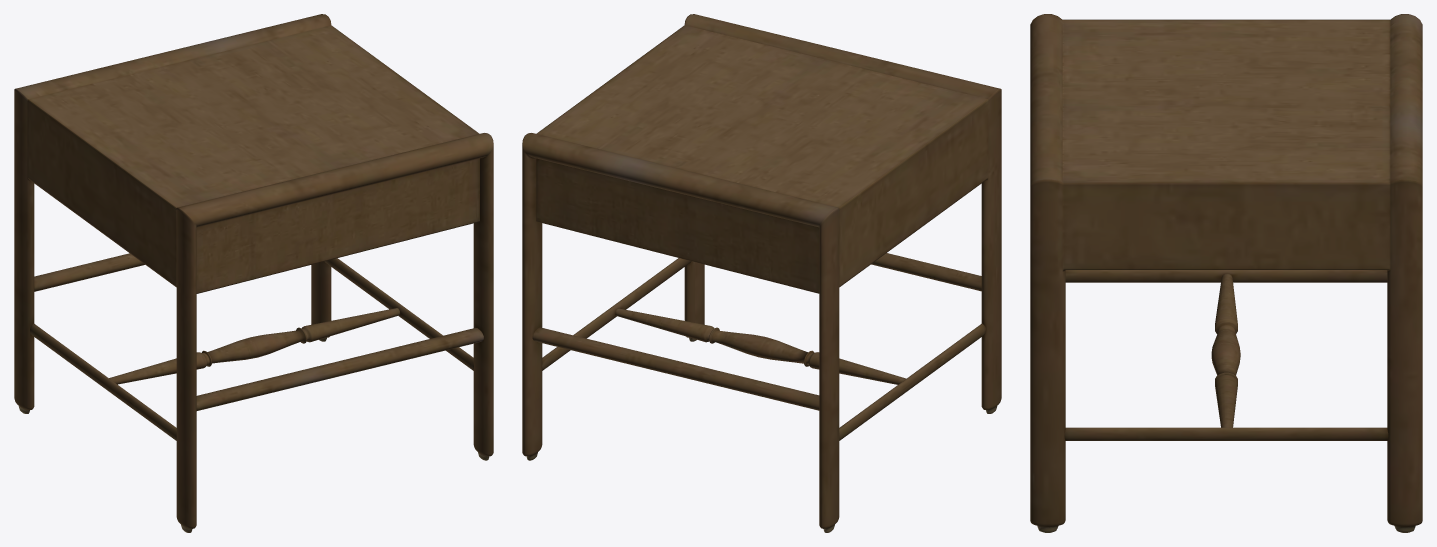
The model's file is ph-small-wooden-table-01.glb.
3 views of the same model, side by side, from view 1: azimuth 30°, elevation 25°; view 2: azimuth 150°, elevation 25°; view 3: azimuth 270°, elevation 25° (orthographic). The views are drawn at different scales.
Parts seen in each view (by area): view 1: small_wooden_table_01; view 2: small_wooden_table_01; view 3: small_wooden_table_01.
Boxes of the visible parts, x1,y1,x2,y2 form: small_wooden_table_01: (14, 14, 493, 532); small_wooden_table_01: (522, 14, 1001, 532); small_wooden_table_01: (1030, 14, 1422, 532).
Size of the model in its own units: 1 by 1 by 1.
Materials: 1 (1 with a texture image).
